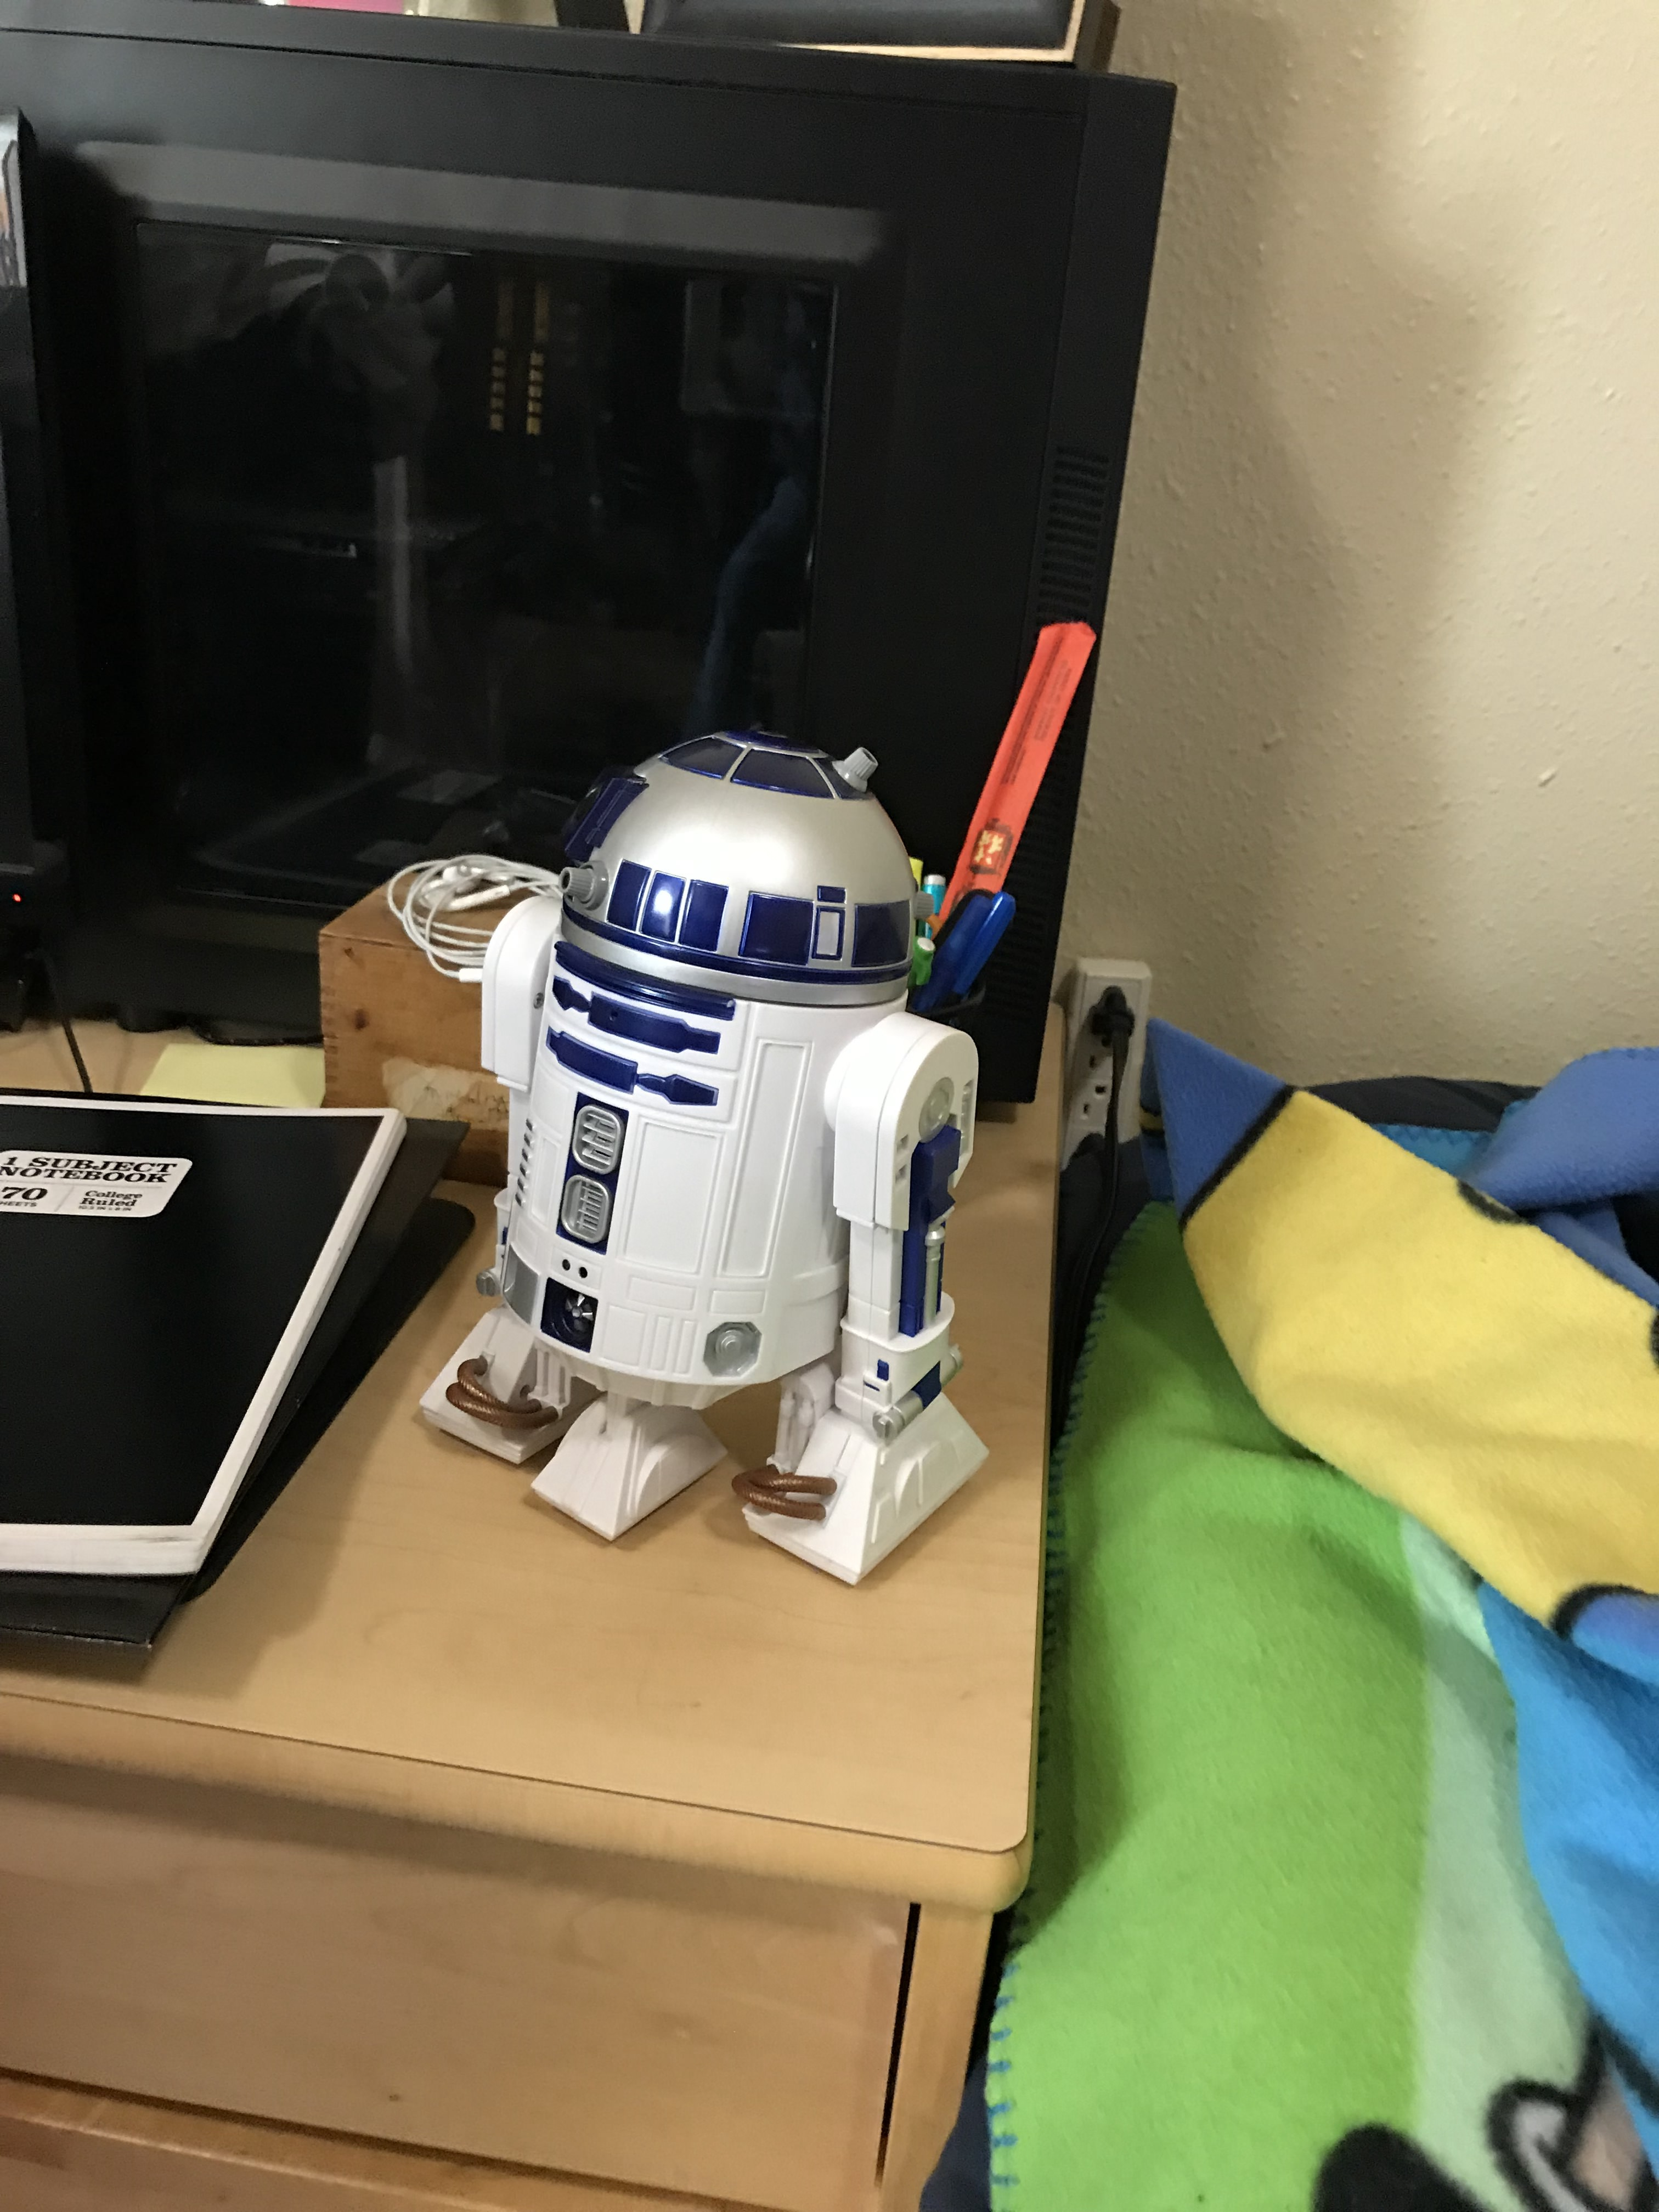r2d2: (420, 728, 993, 1587)
